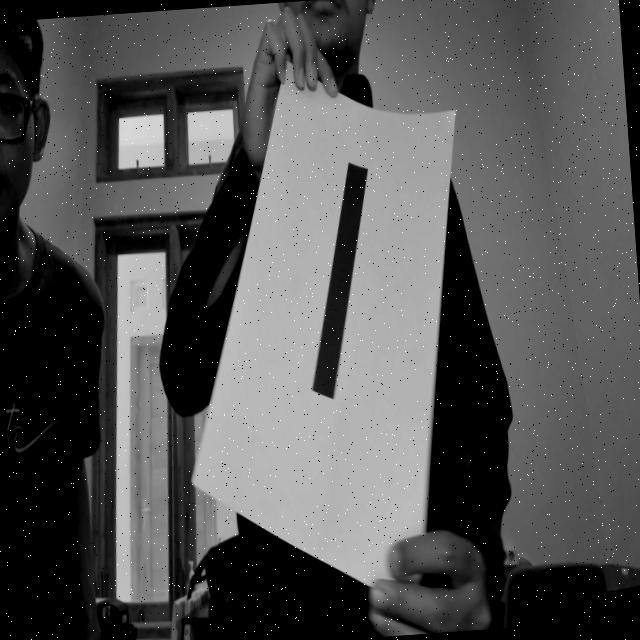i: (281, 132, 408, 466)
